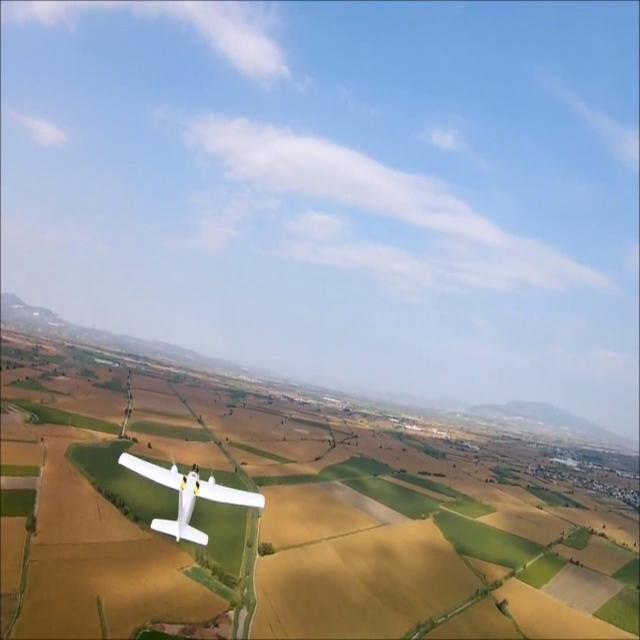iha: (116, 480, 268, 518)
